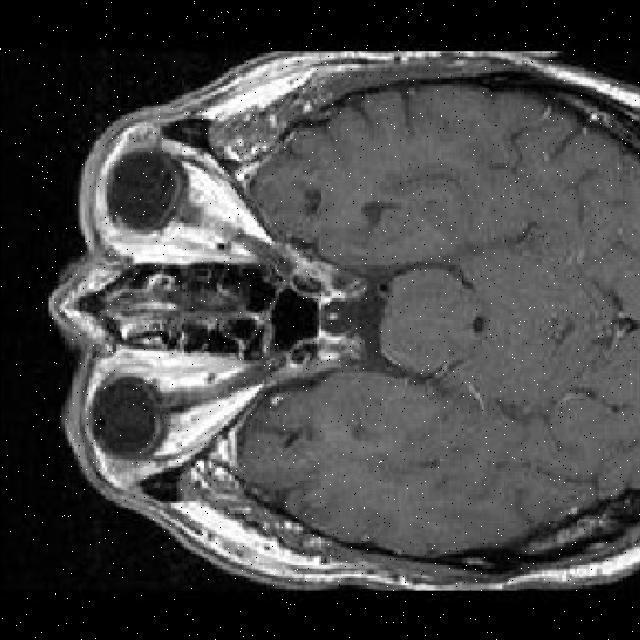No_Tumor: (50, 52, 639, 591)
